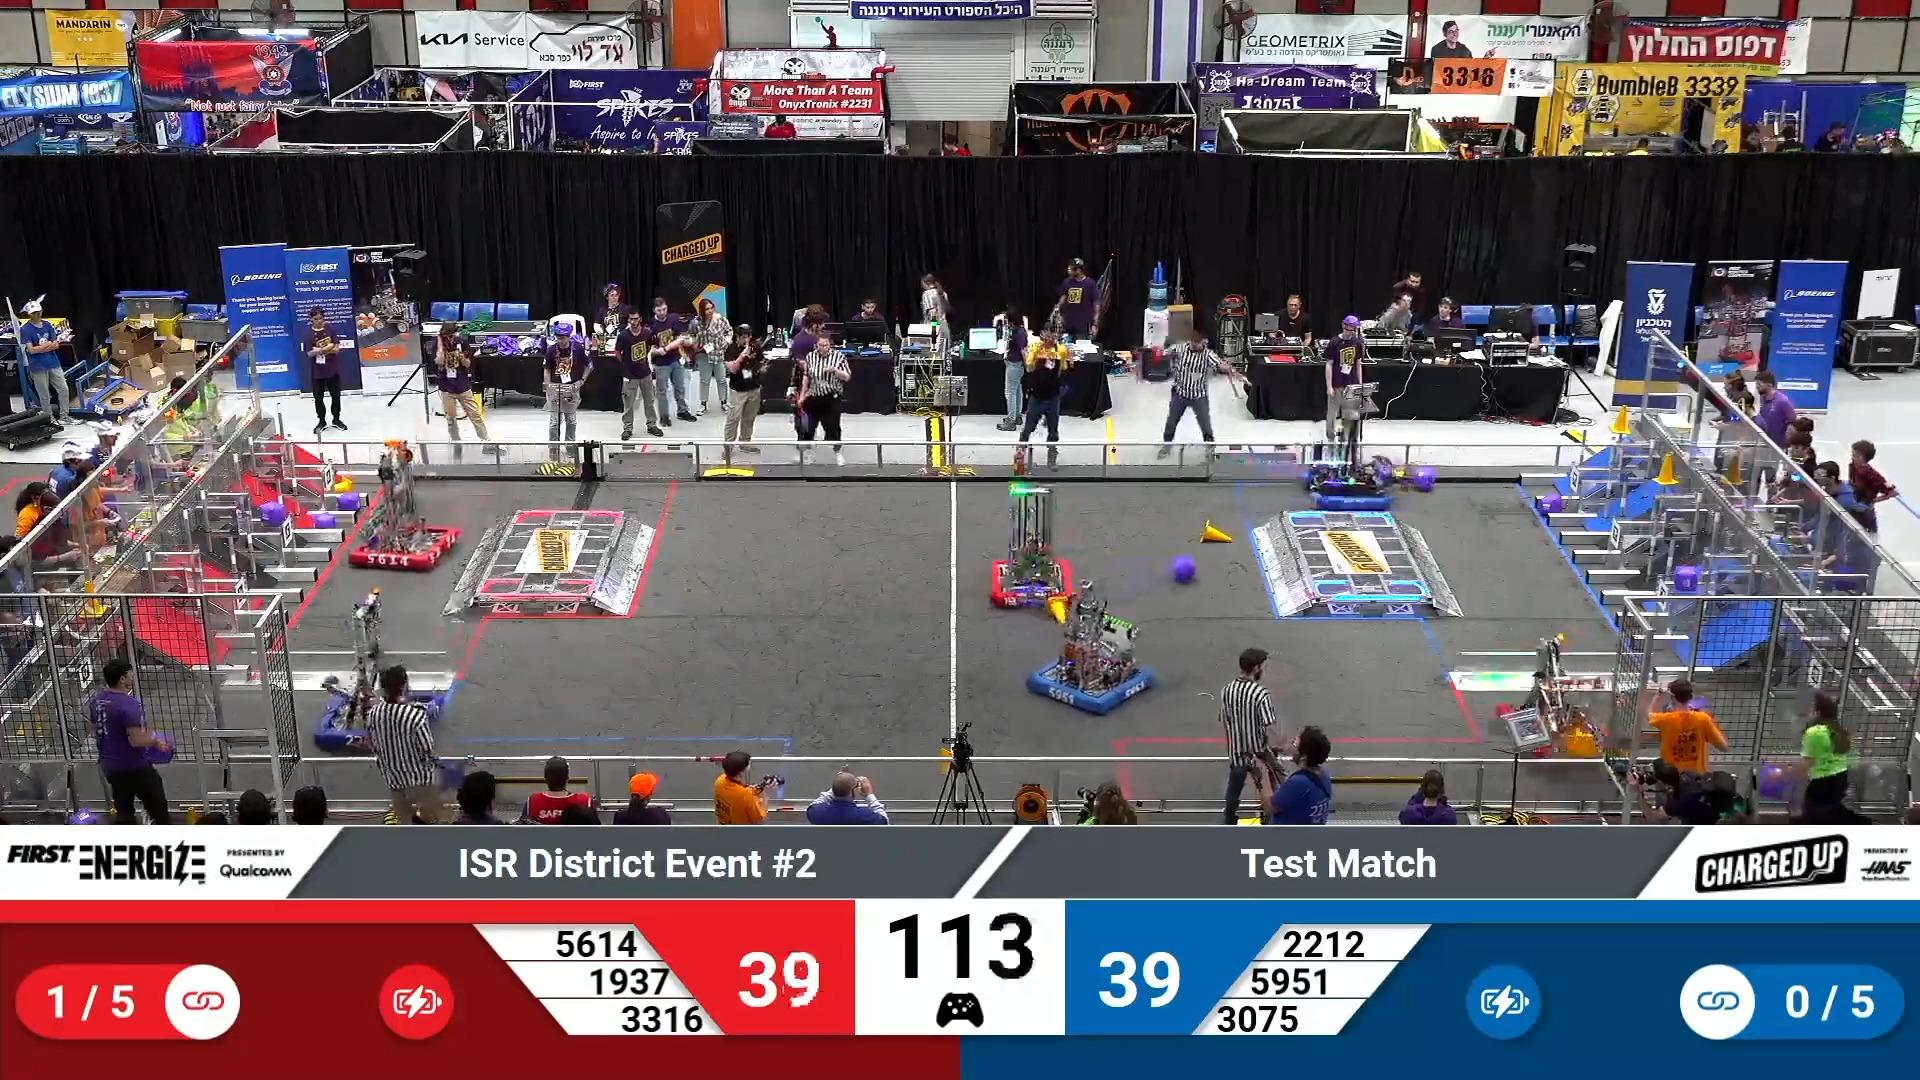robot: (310, 589, 451, 756), (1025, 578, 1155, 717), (1498, 632, 1618, 760), (349, 436, 460, 572), (1296, 382, 1398, 510), (986, 484, 1076, 611)
